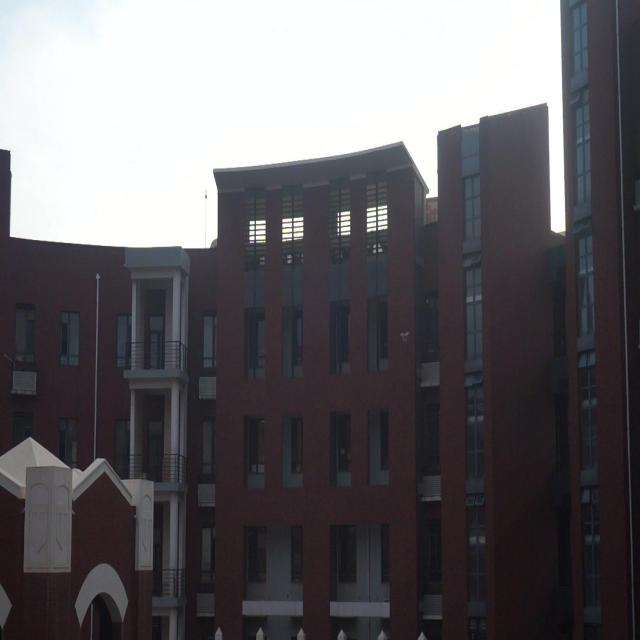UAV: (400, 332, 410, 341)
